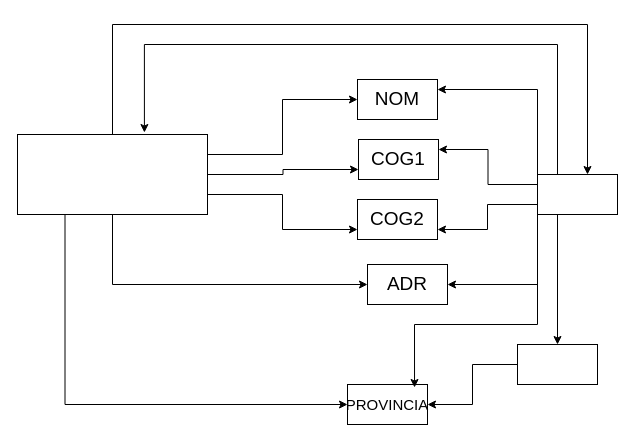
The diagram is 635 pixels wide and 442 high, and some of its shapes have lost their labels. Here are the shapes that lost their labels. From the top down, the centre of each, then its label:
At point 112,174: "NIA".
At point 577,194: "DNI".
At point 557,364: "CP".
